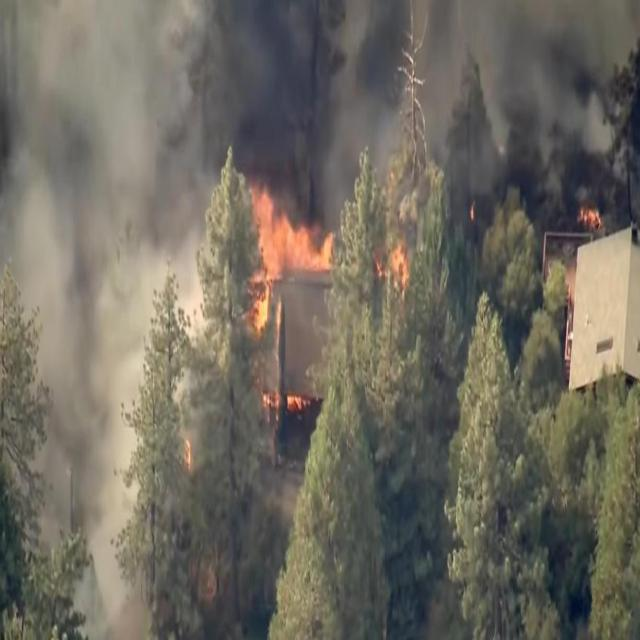Fire: (228, 175, 352, 427), (390, 238, 410, 304)
